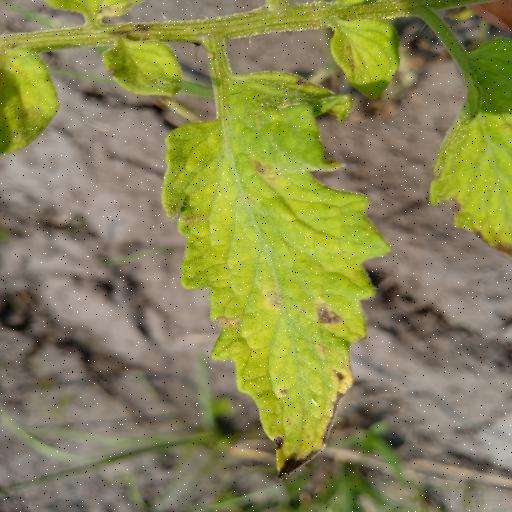Tomato_Brown_Spots: (160, 59, 393, 480)
